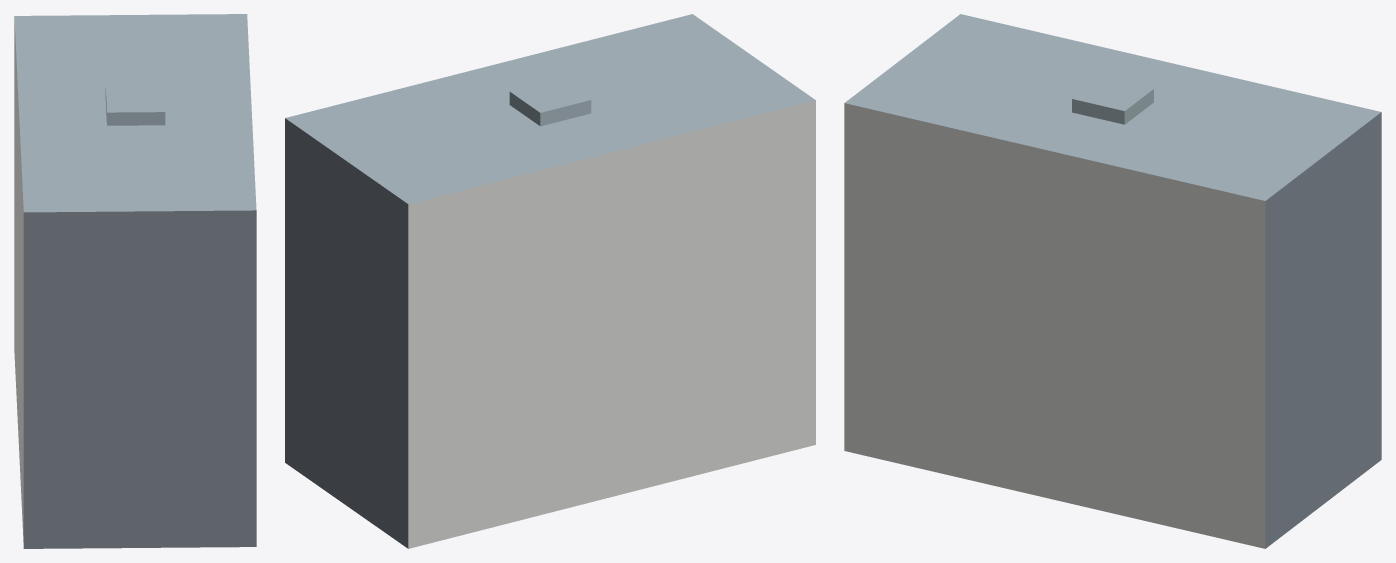
The model's file is doitt-39969__lod_1.glb.
The picture shows the model from 3 angles, left to right: view 1: azimuth 30°, elevation 25°; view 2: azimuth 150°, elevation 25°; view 3: azimuth 270°, elevation 25°; orthographic projection. The views are drawn at different scales.
Bounding box in the file's own units: 27.1 × 24.42 × 32.88.
